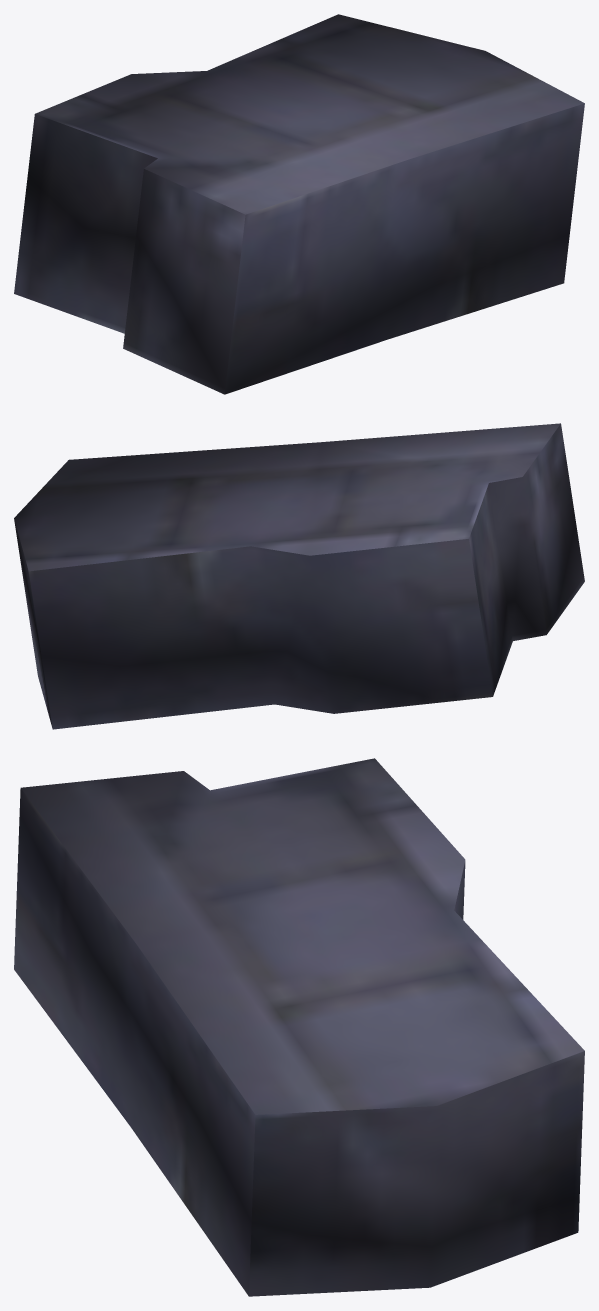
File: Beidaying_canqiang02.FBX
The picture shows the model from 3 angles, top to bottom: view 1: azimuth 30°, elevation 25°; view 2: azimuth 150°, elevation 25°; view 3: azimuth 270°, elevation 25°; orthographic projection. The views are drawn at different scales.
Parts seen in each view (by area): view 1: Beidaying_canqiang02; view 2: Beidaying_canqiang02; view 3: Beidaying_canqiang02.
Boxes of the visible parts, x1,y1,x2,y2 form: Beidaying_canqiang02: (14, 14, 584, 394); Beidaying_canqiang02: (14, 423, 584, 729); Beidaying_canqiang02: (14, 758, 584, 1296).
Size of the model in its own units: 72.07 by 60.4 by 32.61.
